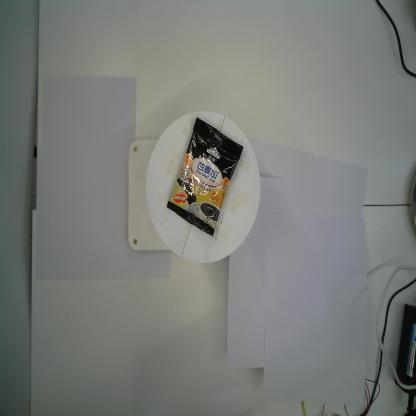Instant Drink: (166, 117, 245, 237)
